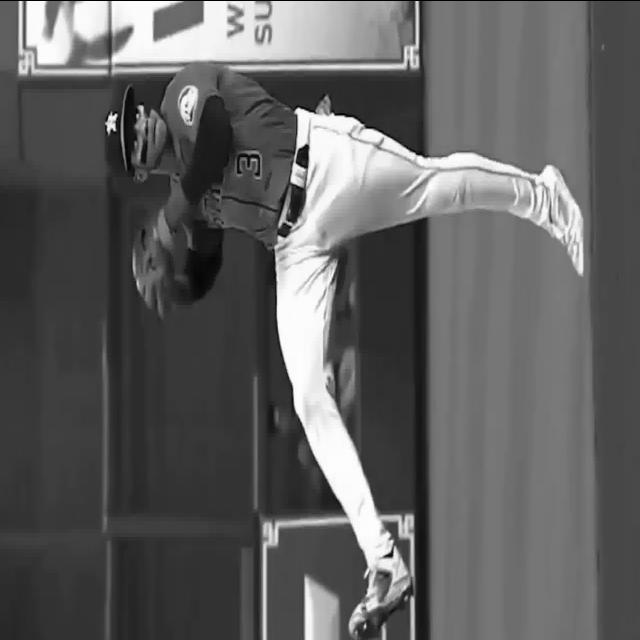baseball_glove: (132, 209, 178, 307)
shoe: (349, 544, 412, 640), (539, 164, 584, 275)
